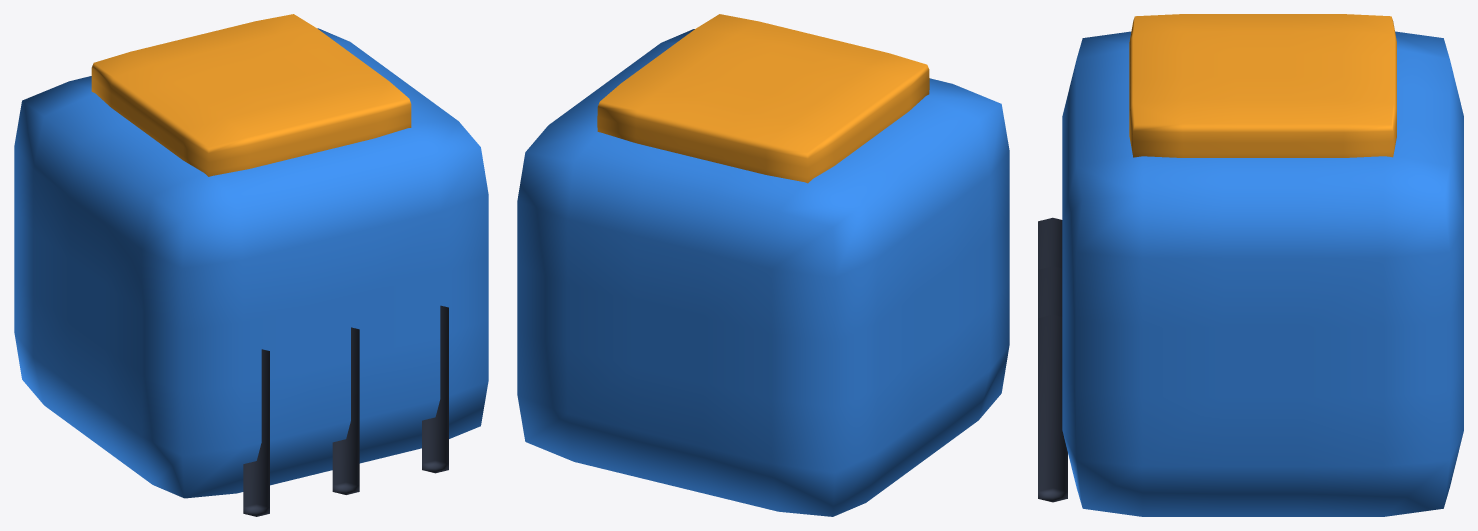
Rendered from head_cage.obj.
3 views of the same model, side by side, from view 1: azimuth 30°, elevation 25°; view 2: azimuth 150°, elevation 25°; view 3: azimuth 270°, elevation 25° (orthographic). The views are drawn at different scales.
Bounding box in the file's own units: 0.44 × 0.44 × 0.4456.
